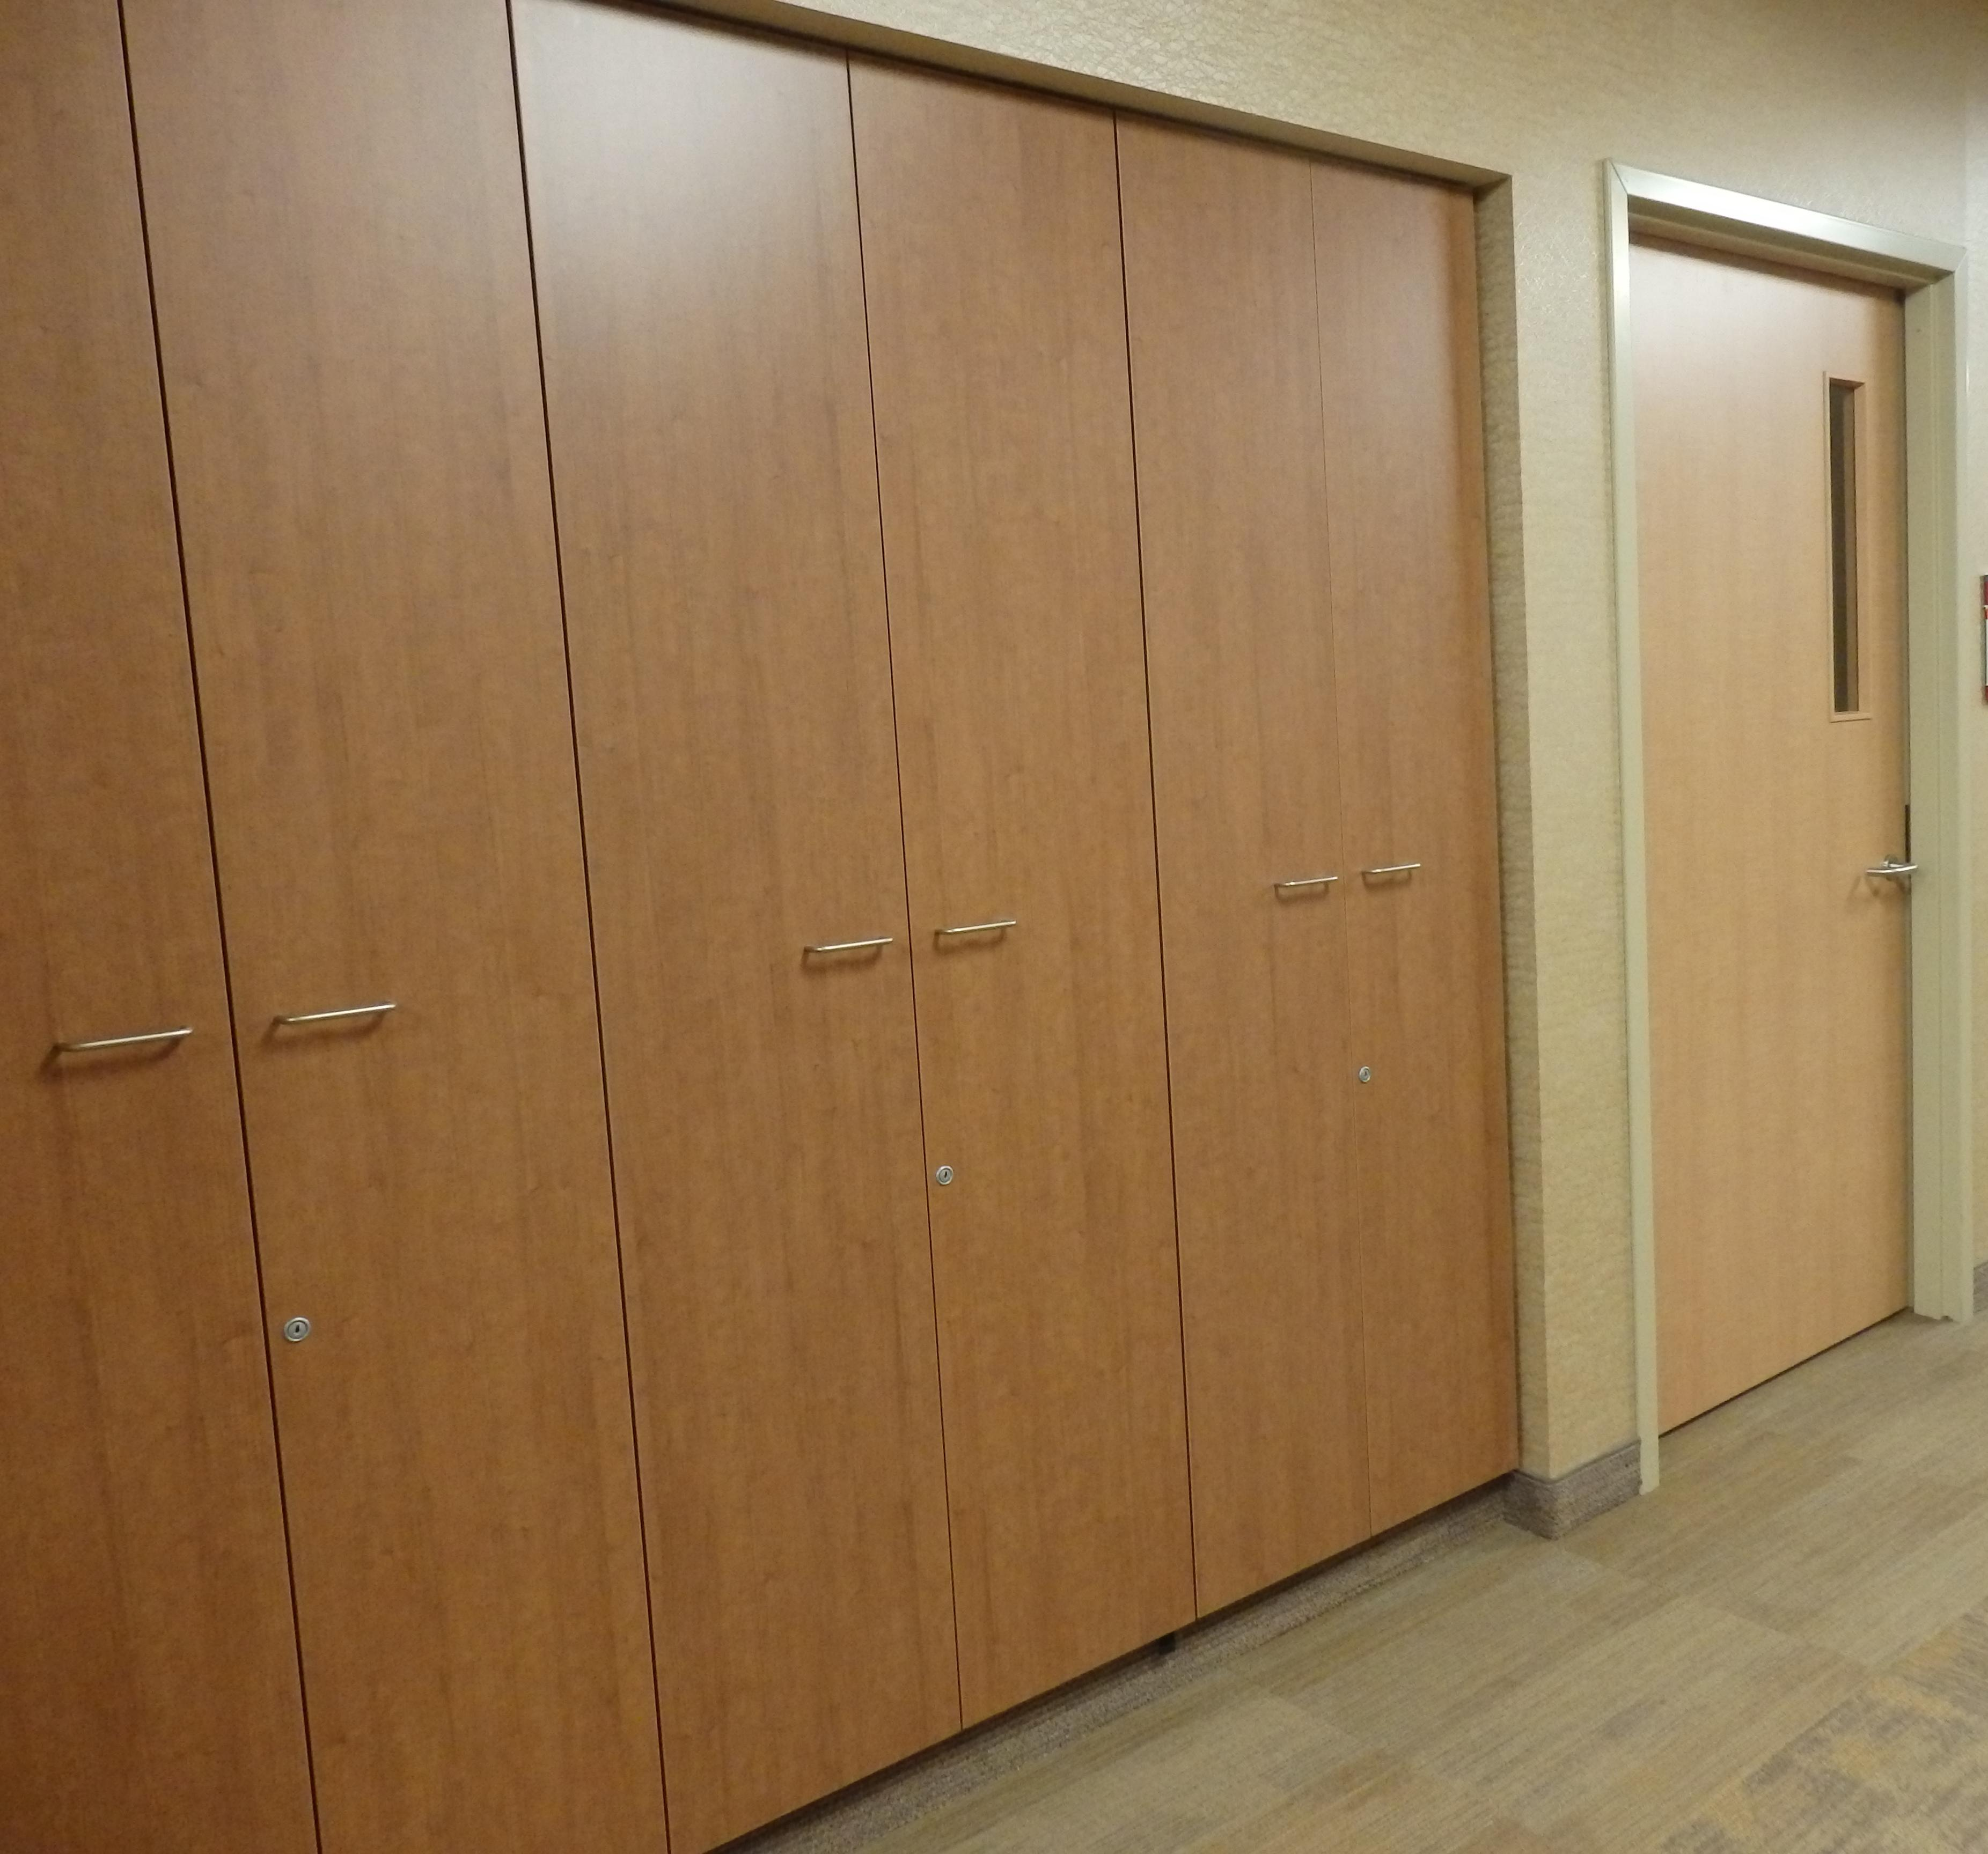door: (1592, 160, 1960, 1471)
